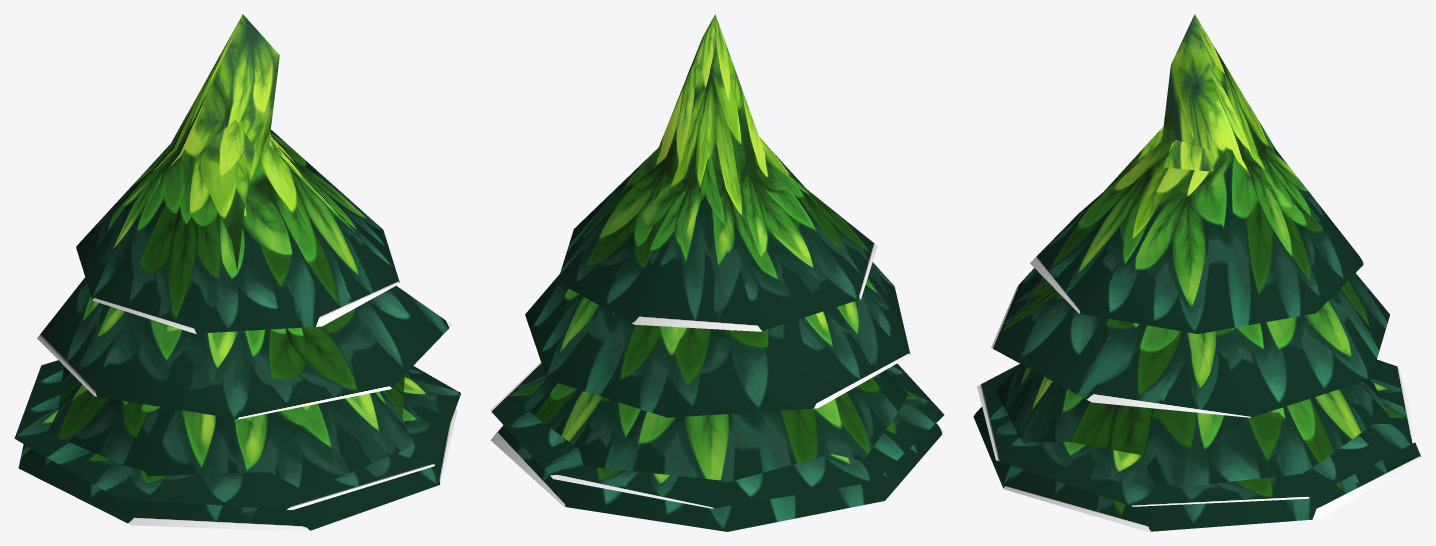
The model's file is SM_ENV_TREE_village_LOD1.glb.
3 renders of one model, left to right at view 1: azimuth 30°, elevation 25°; view 2: azimuth 150°, elevation 25°; view 3: azimuth 270°, elevation 25°, orthographic.
Parts seen in each view (by area): view 1: SM_ENV_TREE_village_LOD1_EXPORT; view 2: SM_ENV_TREE_village_LOD1_EXPORT; view 3: SM_ENV_TREE_village_LOD1_EXPORT.
Boxes of the visible parts, x1,y1,x2,y2 form: SM_ENV_TREE_village_LOD1_EXPORT: (14, 14, 461, 531); SM_ENV_TREE_village_LOD1_EXPORT: (490, 14, 944, 531); SM_ENV_TREE_village_LOD1_EXPORT: (973, 14, 1421, 531).
Bounding box in the file's own units: 4.71 × 5.68 × 4.71.
Materials: 2 (2 with a texture image).
